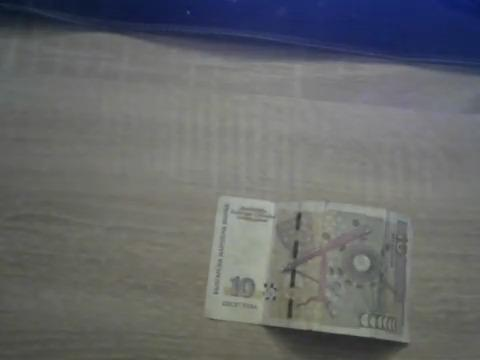10leva: (203, 196, 412, 346)
